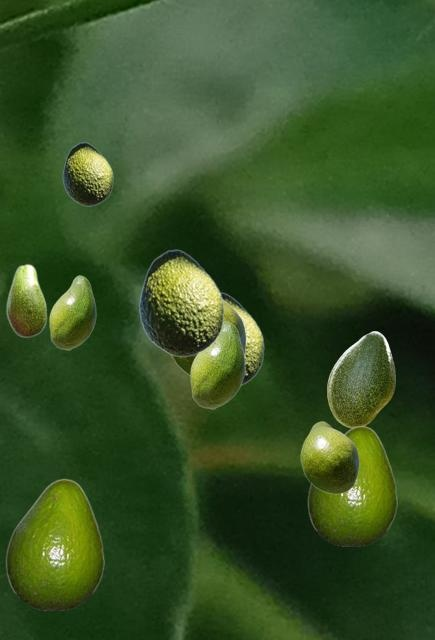avocado: (5, 478, 103, 609), (307, 425, 396, 545), (138, 249, 223, 356), (327, 331, 394, 427), (171, 299, 245, 376), (190, 321, 244, 408), (300, 421, 358, 493), (222, 292, 263, 385), (49, 275, 95, 349), (62, 142, 112, 205), (6, 263, 46, 337)
